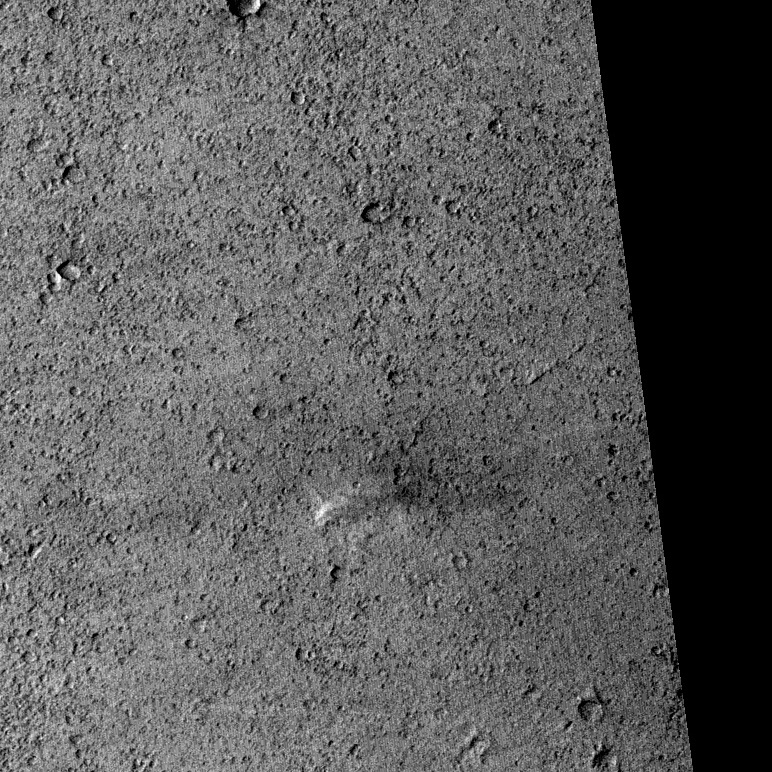dust_devil: (310, 467, 523, 530)
